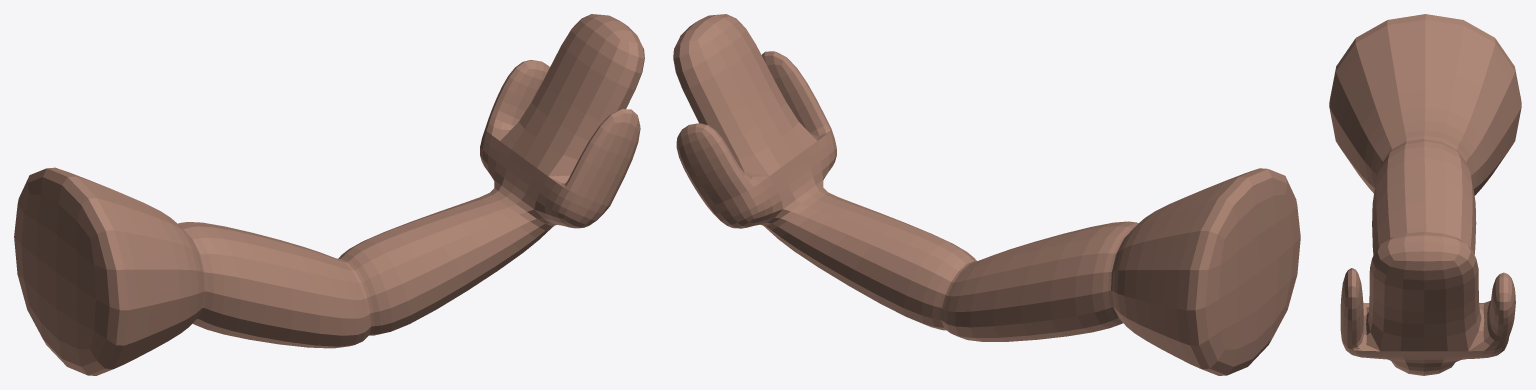
Rendered from arm.glb.
3 renders of one model, left to right at view 1: azimuth 30°, elevation 25°; view 2: azimuth 150°, elevation 25°; view 3: azimuth 270°, elevation 25°, orthographic. The views are drawn at different scales.
Visible parts, largest first — view 1: Arm; view 2: Arm; view 3: Arm.
Part boxes in pixels (x1=…): Arm: x1=14, y1=14, x2=644, y2=375; Arm: x1=673, y1=14, x2=1300, y2=375; Arm: x1=1329, y1=14, x2=1521, y2=375.
Bounding box in the file's own units: 1.24 × 0.5211 × 0.3934.
